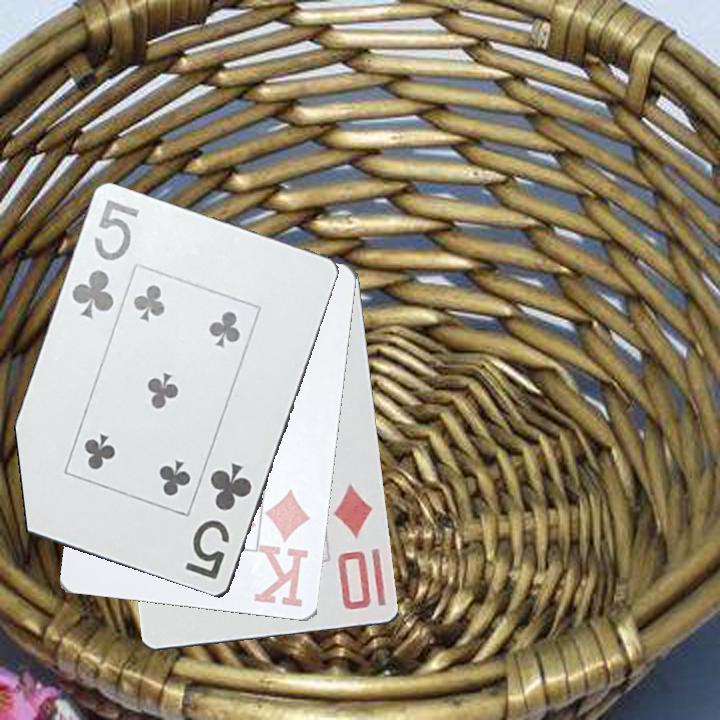5c: (68, 196, 143, 323), (181, 460, 256, 583)
Kd: (255, 486, 314, 611)
Td: (330, 481, 376, 613)
